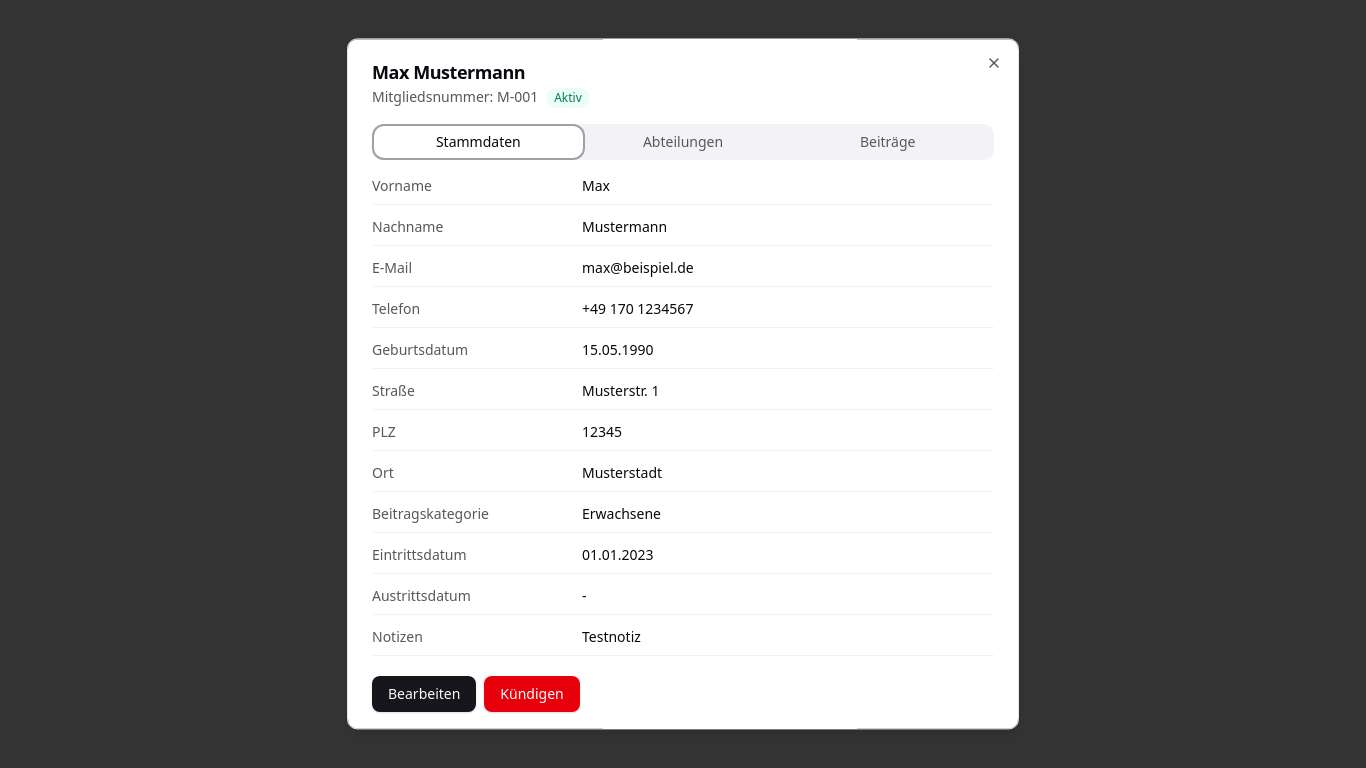
Test: MemberDetail › shows cancel confirmation flow
Note: Click "Kündigen" button
Click the button "Kündigen" at [532, 694], box top-left (484, 676), bottom-right (580, 712)
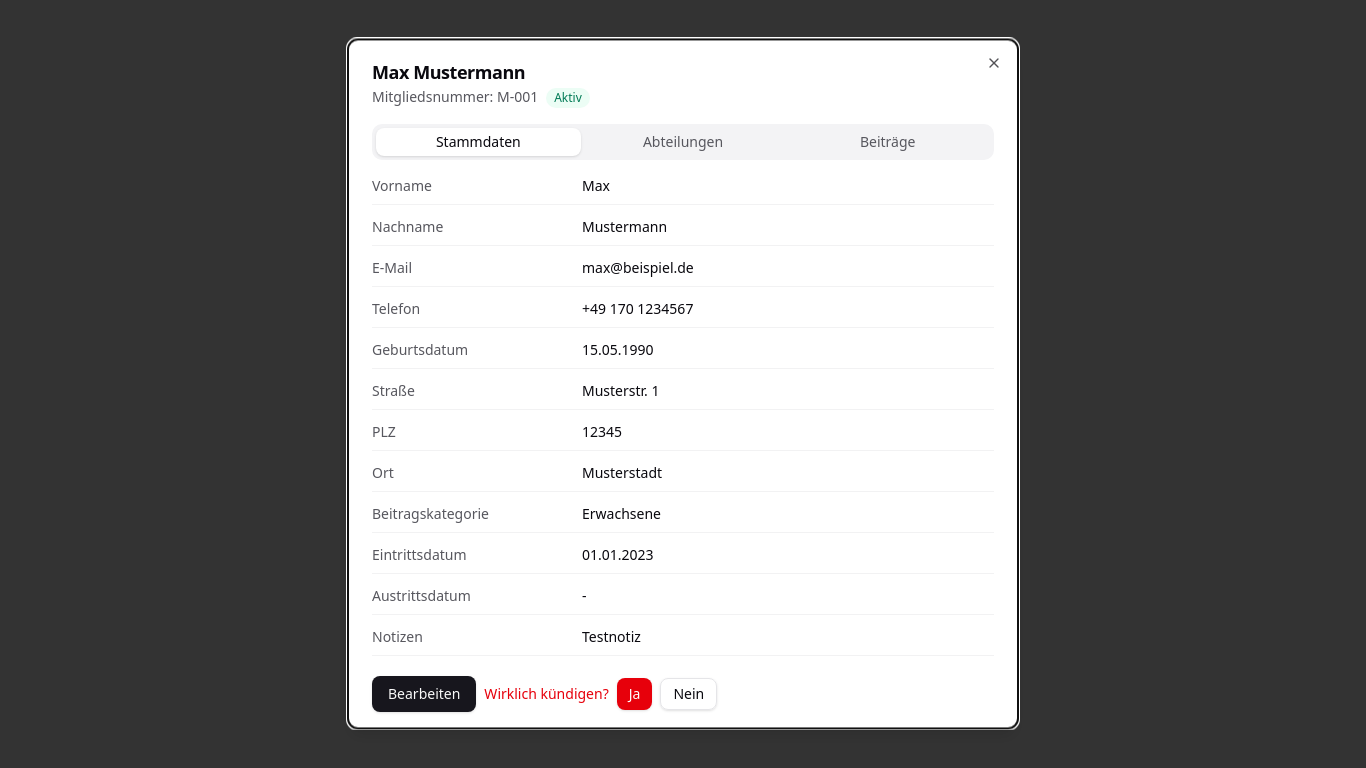
Expected: the text "Wirklich kündigen?" is shown, top-left (484, 684), bottom-right (609, 704)
Expected: the button "Ja" is shown, top-left (617, 678), bottom-right (652, 710)
Expected: the button "Nein" is shown, top-left (660, 678), bottom-right (717, 710)
